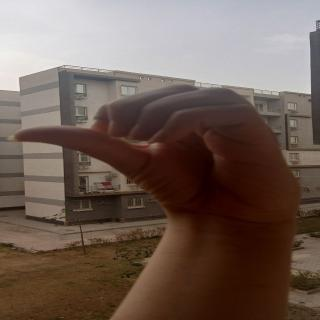WAW: (20, 79, 291, 222)
